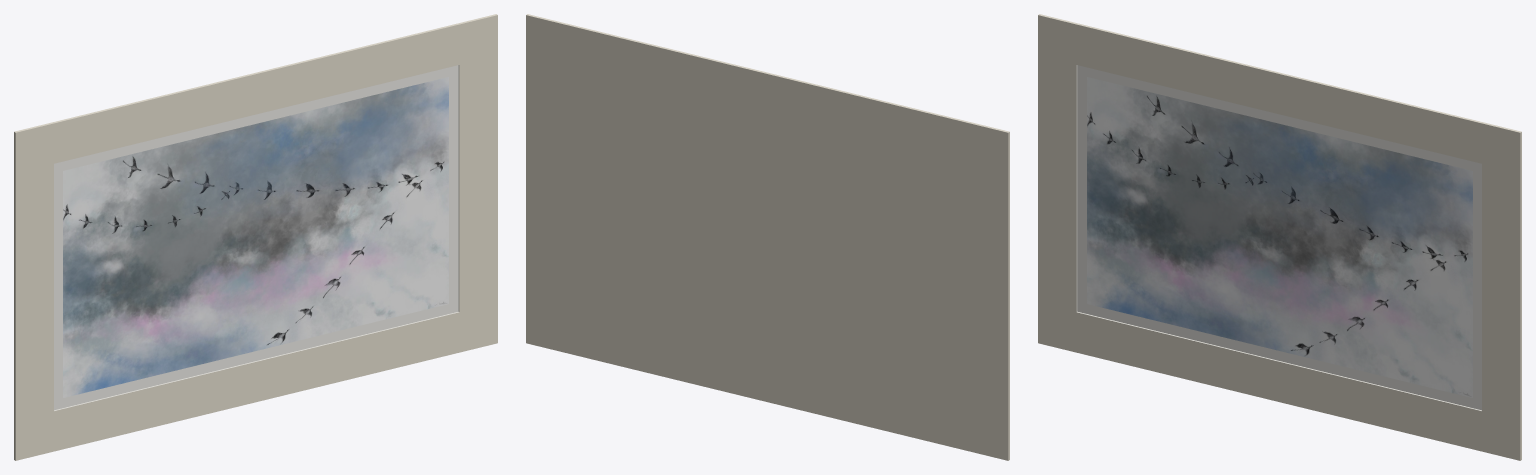
The model's file is hz099_moyen_passe-partout.glb.
3 views of the same model, side by side, from view 1: azimuth 30°, elevation 25°; view 2: azimuth 150°, elevation 25°; view 3: azimuth 330°, elevation 25° (orthographic).
Parts seen in each view (by area): view 1: hz099_moyen_passe-partout; view 2: hz099_moyen_passe-partout; view 3: hz099_moyen_passe-partout.
Part boxes in pixels (x1,y1,x2,y2): hz099_moyen_passe-partout: (14, 14, 497, 460); hz099_moyen_passe-partout: (526, 14, 1009, 460); hz099_moyen_passe-partout: (1038, 14, 1521, 460).
Size of the model in its own units: 1 by 0.65 by 0.0055.
4 materials, 1 textured.
